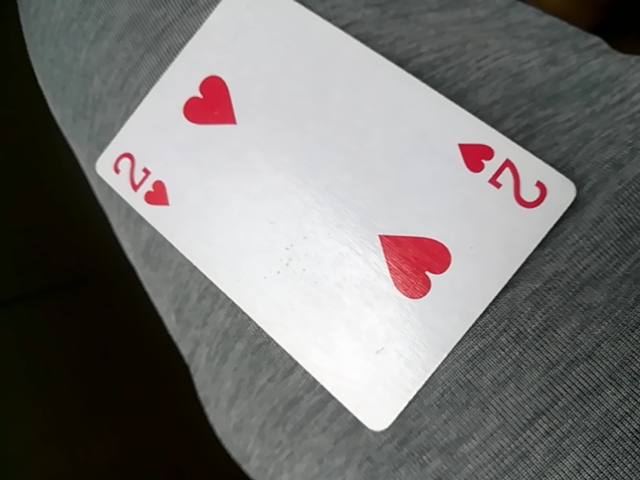hx 2: (87, 2, 581, 430)
